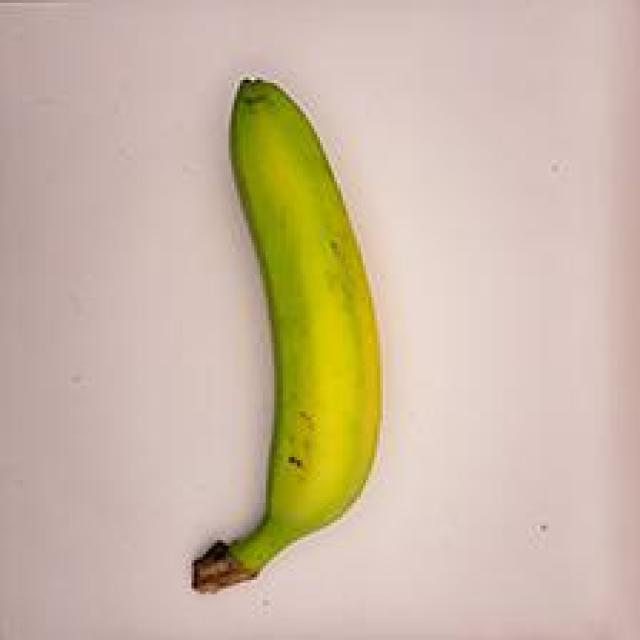Unripe: (114, 47, 428, 620)
